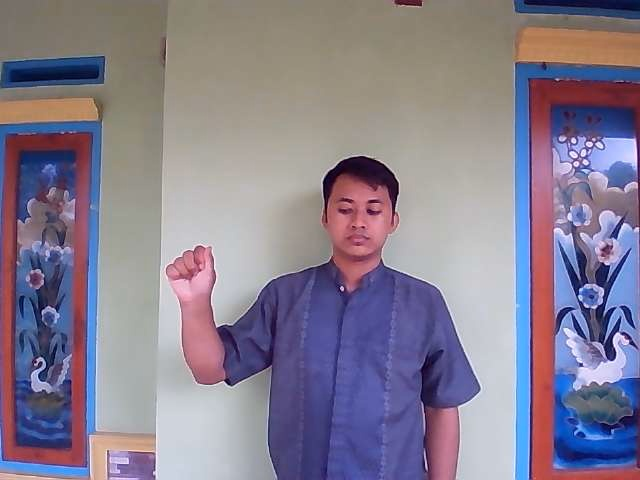A: (159, 238, 225, 314)
